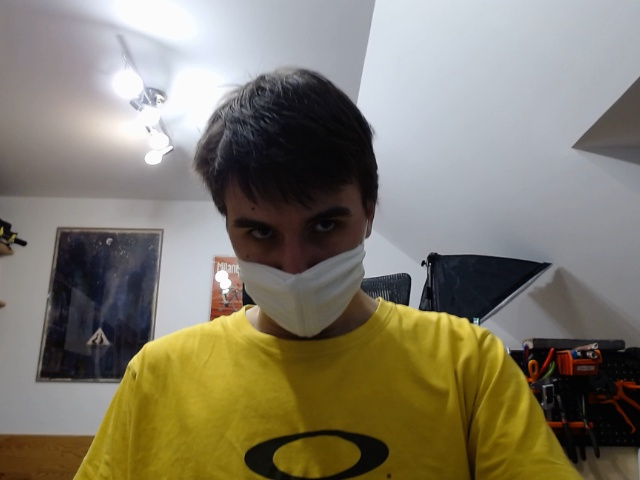CorrectMask: (190, 65, 381, 342)
